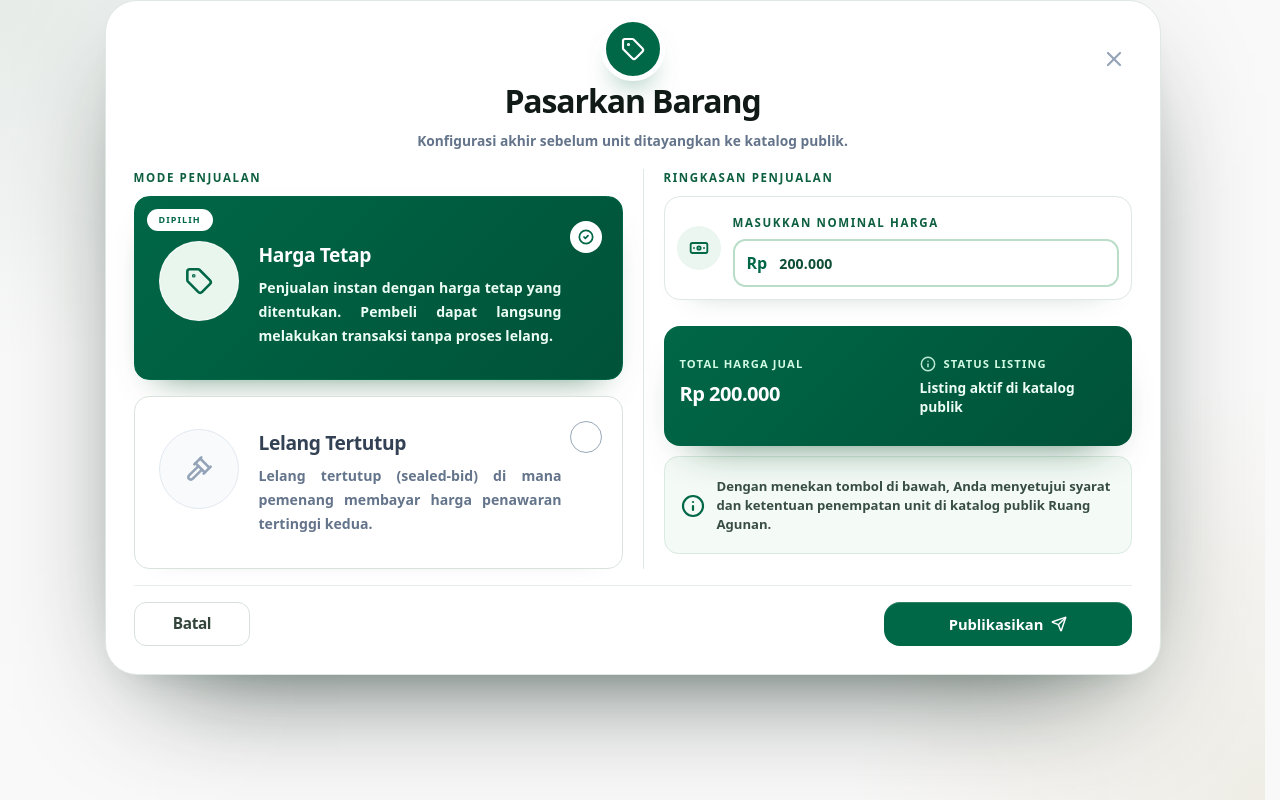
Test: AdminMarketingForm › keeps reference-proportioned method cards aligned with the auction summary
Click the button "Lelang Tertutup" at (378, 483), box [134,396,622,569]
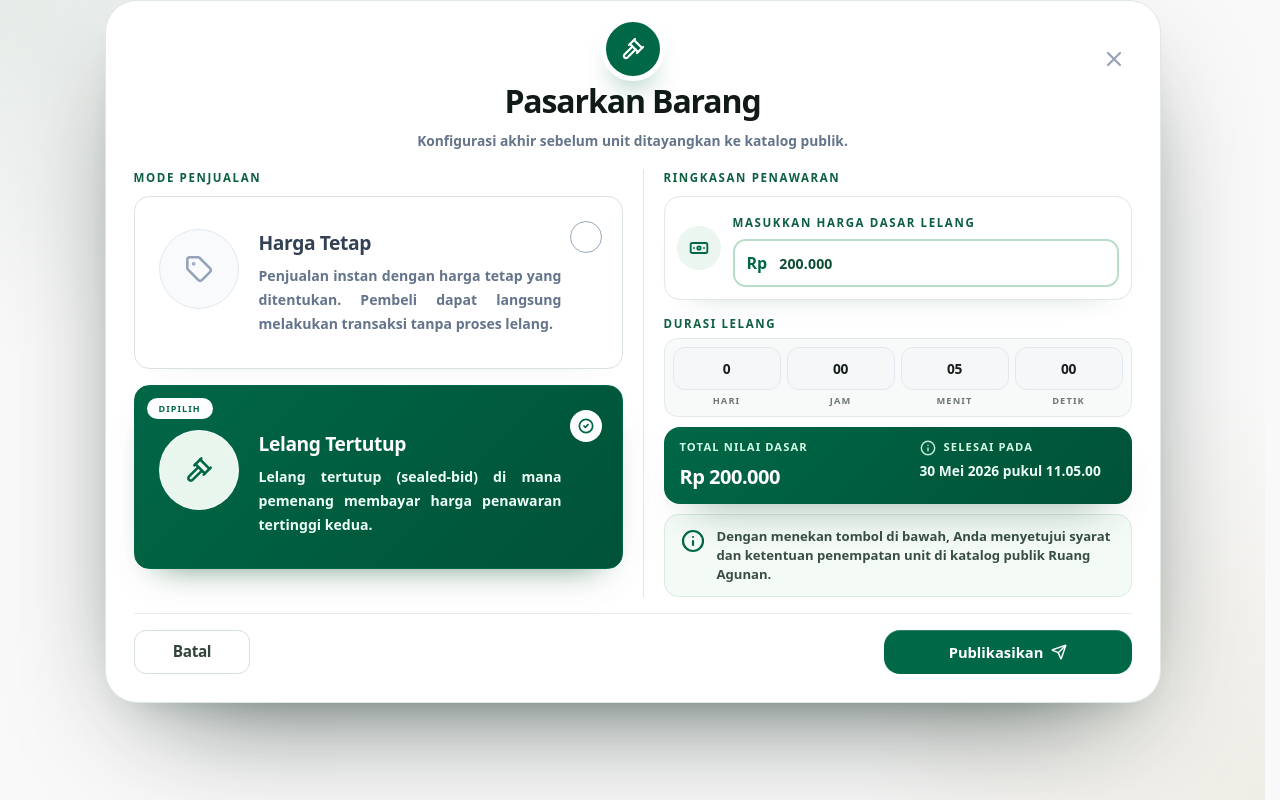
Expected: the icon with class "lucide-banknote" is shown, [688,238,708,258]
Result: the text "Ringkasan Penawaran" is shown at [664,170,840,185]
Result: the field labelled "Hari" is shown at [672,347,780,390]
